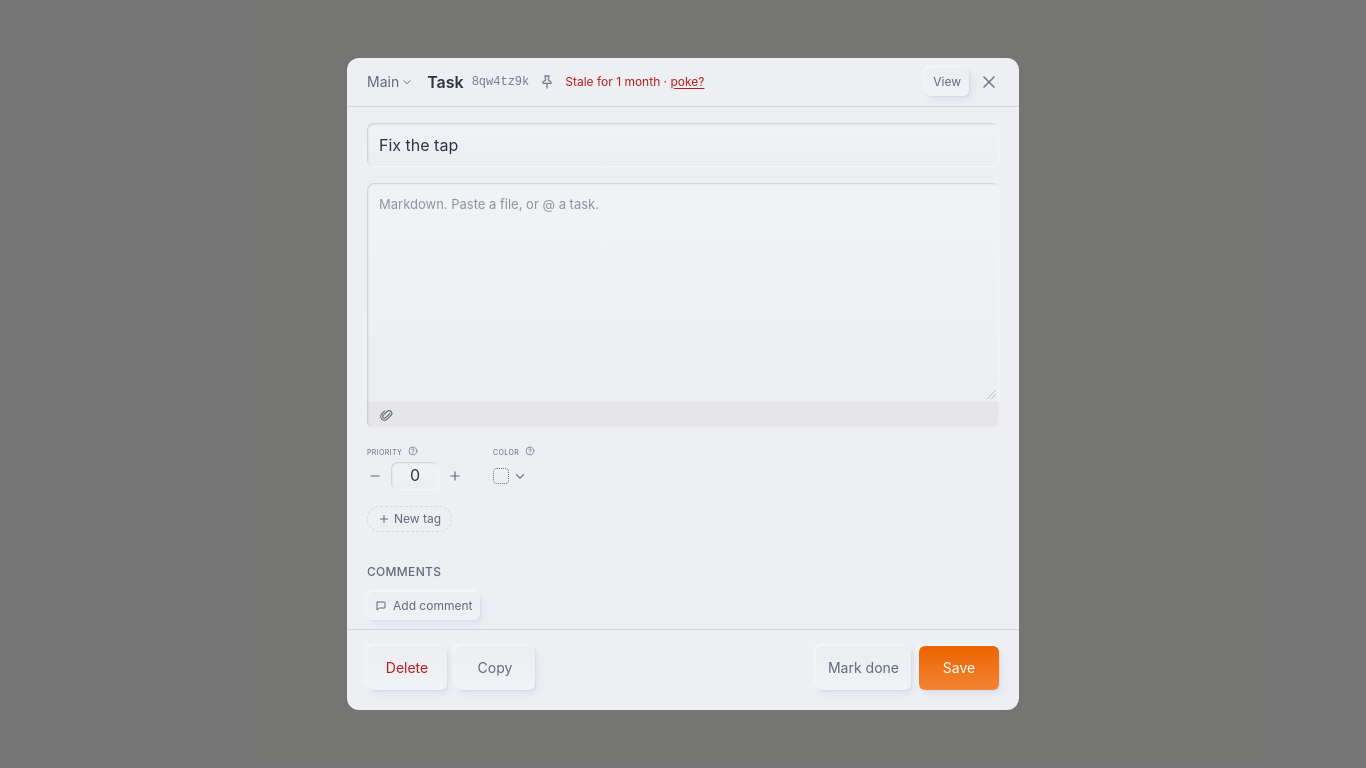
Test: reading the task › offers View with no description too
This screenshot has width=1366, height=768.
Expected: the text box with placeholder "Markdown. Paste a file, or @ a task." is shown, [367, 183, 999, 402]
Click the button "View" at point(947, 82), box [925, 68, 969, 96]
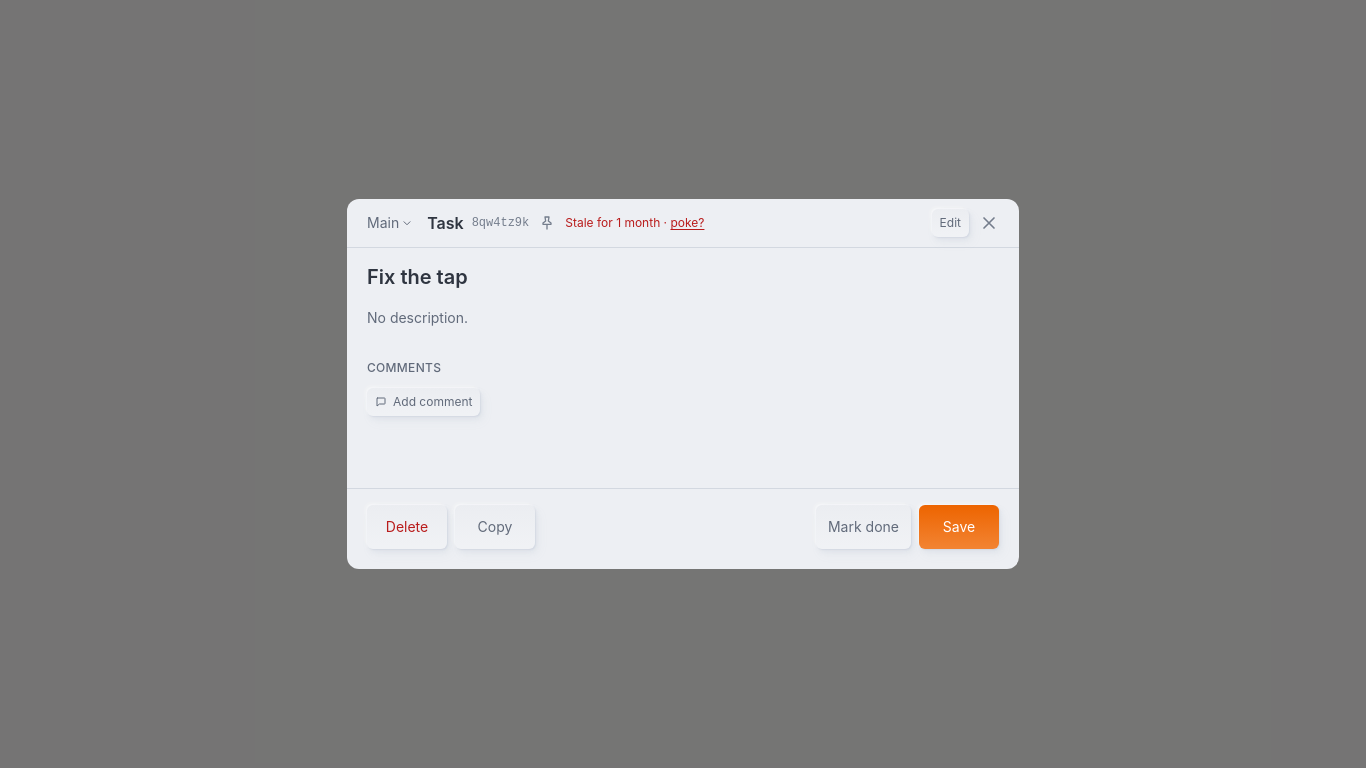
Expected: the text "No description." is shown, [367, 308, 468, 326]
